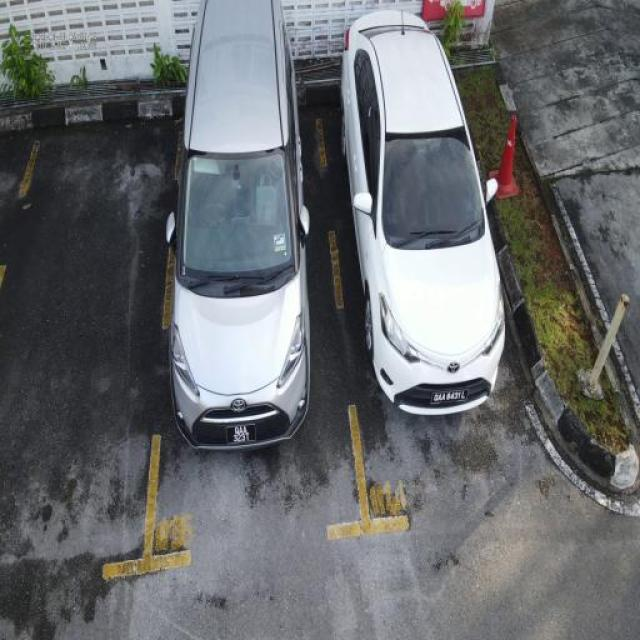Legalparking: (19, 9, 573, 563)
